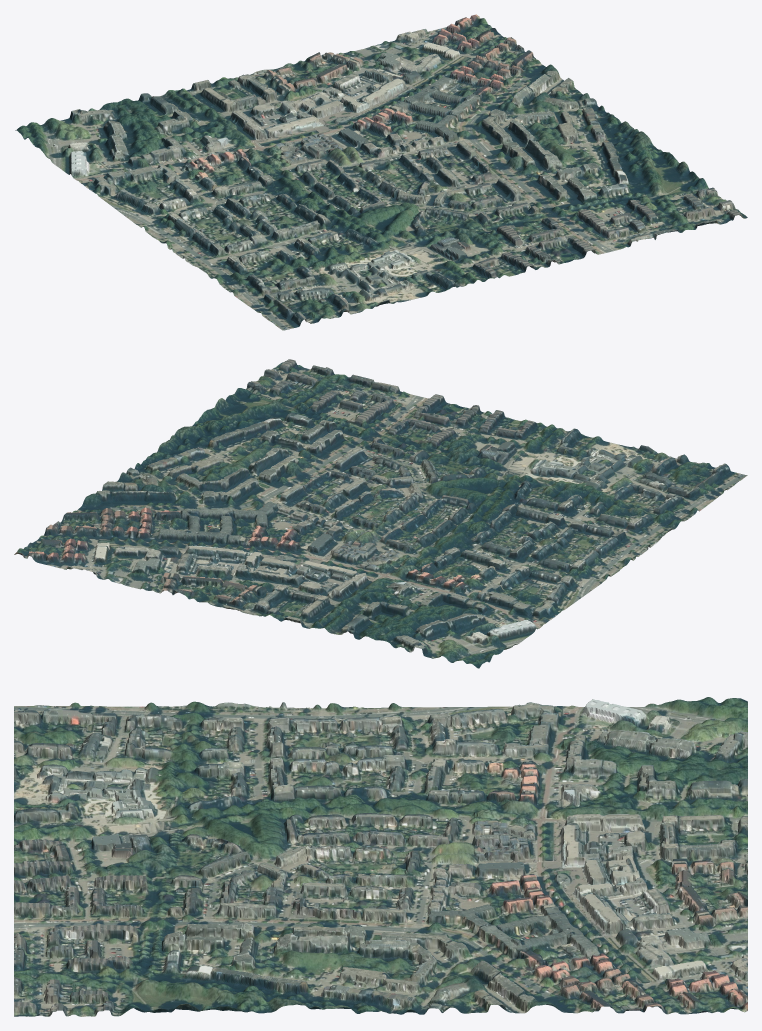
The model's file is utrecht_suburb_mesh.glb.
The picture shows the model from 3 angles, top to bottom: view 1: azimuth 30°, elevation 25°; view 2: azimuth 150°, elevation 25°; view 3: azimuth 270°, elevation 25°; orthographic projection. The views are drawn at different scales.
Visible parts, largest first — view 1: terrain; view 2: terrain; view 3: terrain.
Boxes of the visible parts, bbox=[...] form: terrain: bbox=[15, 14, 747, 330]; terrain: bbox=[14, 359, 747, 668]; terrain: bbox=[14, 697, 747, 1016].
Bounding box in the file's own units: 600 × 17.5 × 600.
Materials: 1 (1 with a texture image).
